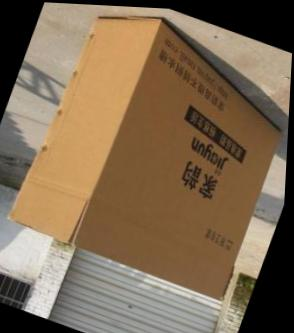cardboard: (0, 3, 293, 332)
